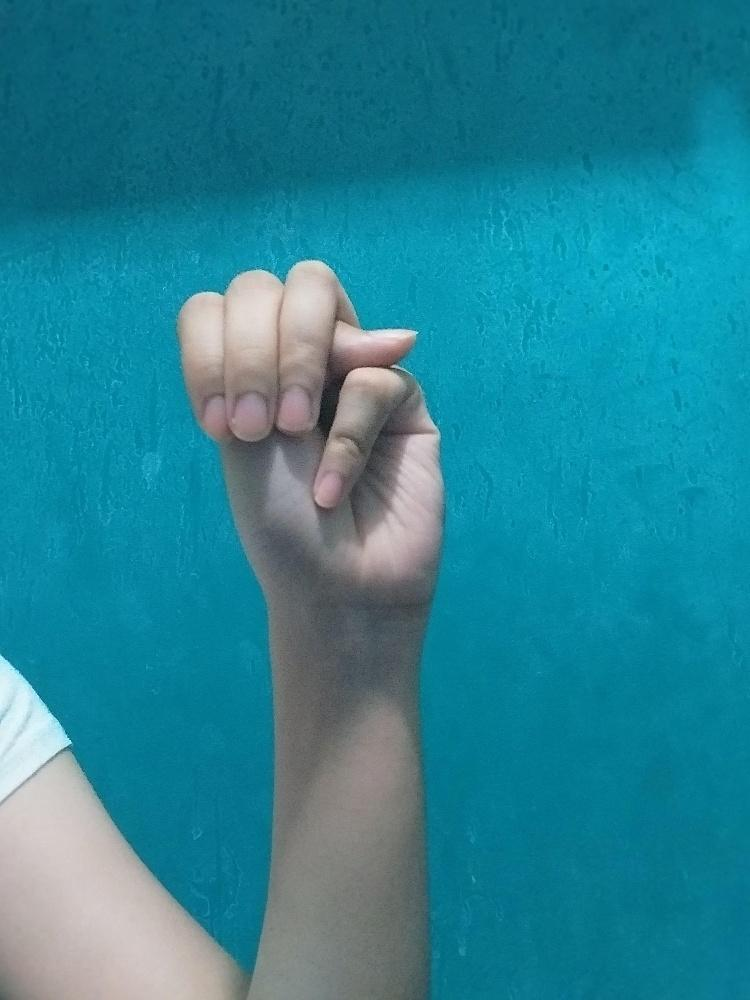m: (177, 256, 452, 611)
